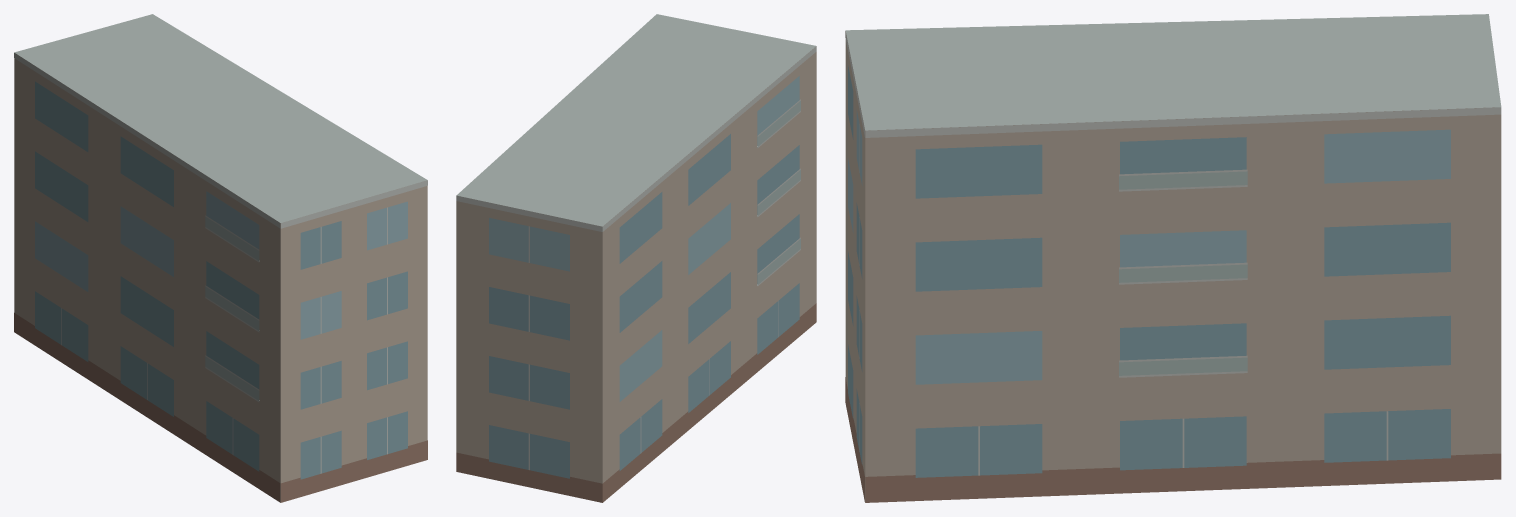
The model's file is survey-upis-32723113.glb.
The picture shows the model from 3 angles, left to right: view 1: azimuth 30°, elevation 25°; view 2: azimuth 150°, elevation 25°; view 3: azimuth 270°, elevation 25°; orthographic projection. The views are drawn at different scales.
Visible parts, largest first — view 1: survey-upis-32723113.tmp; view 2: survey-upis-32723113.tmp; view 3: survey-upis-32723113.tmp.
Part boxes in pixels (<box>): survey-upis-32723113.tmp: <box>14,14,427,502</box>; survey-upis-32723113.tmp: <box>456,14,816,502</box>; survey-upis-32723113.tmp: <box>845,14,1501,502</box>.
Bounding box in the file's own units: 8.2 × 12.2 × 19.49.
